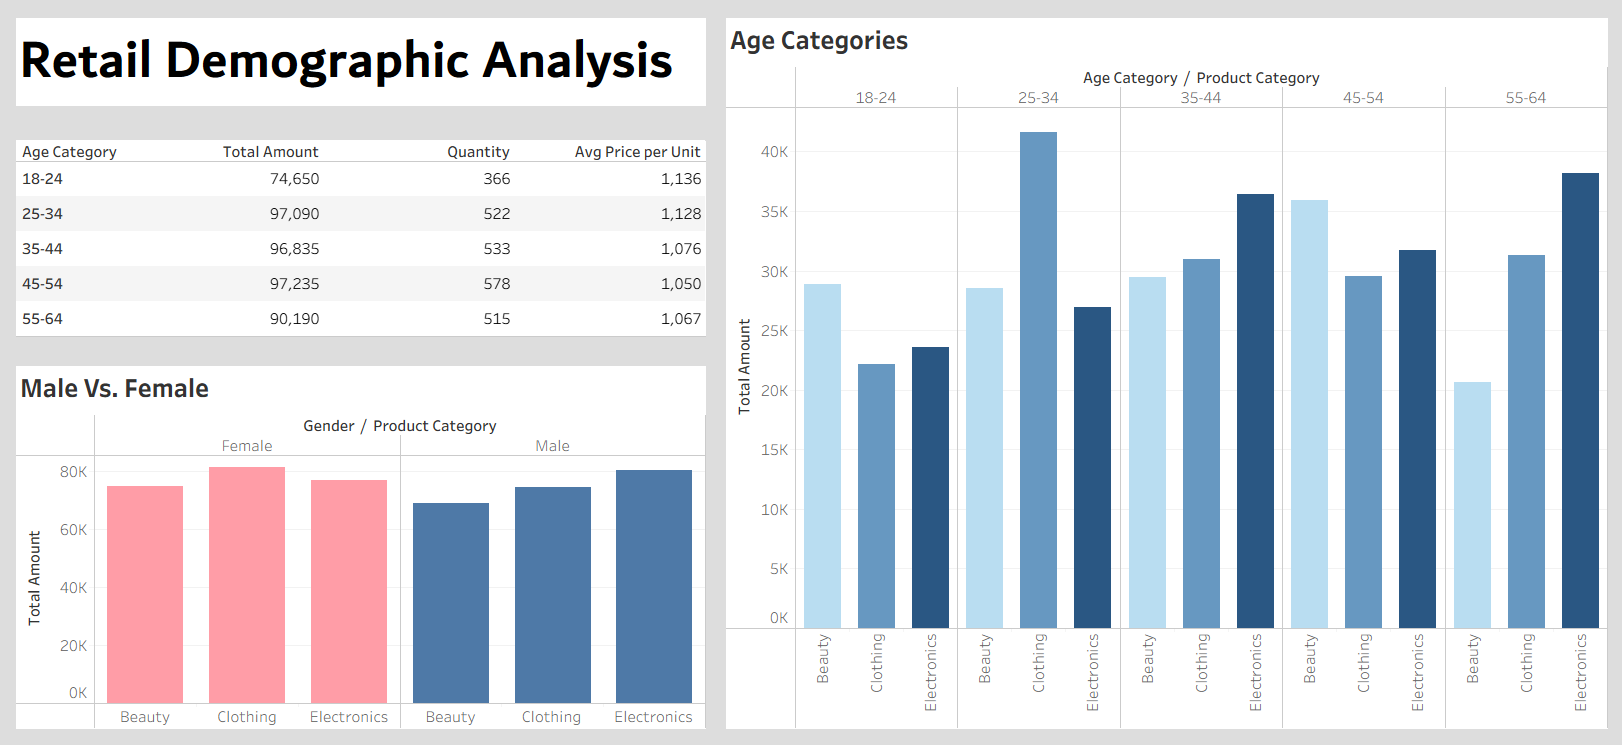

What the dashboard file says about the page in this screenshot:
{"tool":"tableau","page":{"name":"Dashboard 1","canvas":[1000,1000],"units":"permille","ordinal":0},"visuals":[{"type":"text","box":[4.9,10.7,436.1,144.6]},{"type":"worksheet","title":"Sheet 1","mark":"Automatic","rows":["Total Amount"],"cols":["Age Category","Product Category"],"box":[441,10.7,554.1,978.6]},{"type":"worksheet","title":"Sheet 3","mark":"Automatic","rows":["Age Category"],"box":[4.9,155.3,436.1,321.3]},{"type":"worksheet","title":"Sheet 2","mark":"Automatic","rows":["Total Amount"],"cols":["Gender","Product Category"],"box":[4.9,476.6,436.1,512.7]}]}

Visuals, with their boxes on the dashboard's canvas, which has no fixed pixel size, in thousandths of its width and height (x1, y1, x2, y2). These are canvas units, not pixel positions in the 1622x745 screenshot, which may show the page scaled, cropped or inside an application window:
text: BBox(5, 11, 441, 155)
"Sheet 1" worksheet: BBox(441, 11, 995, 989)
"Sheet 3" worksheet: BBox(5, 155, 441, 477)
"Sheet 2" worksheet: BBox(5, 477, 441, 989)
